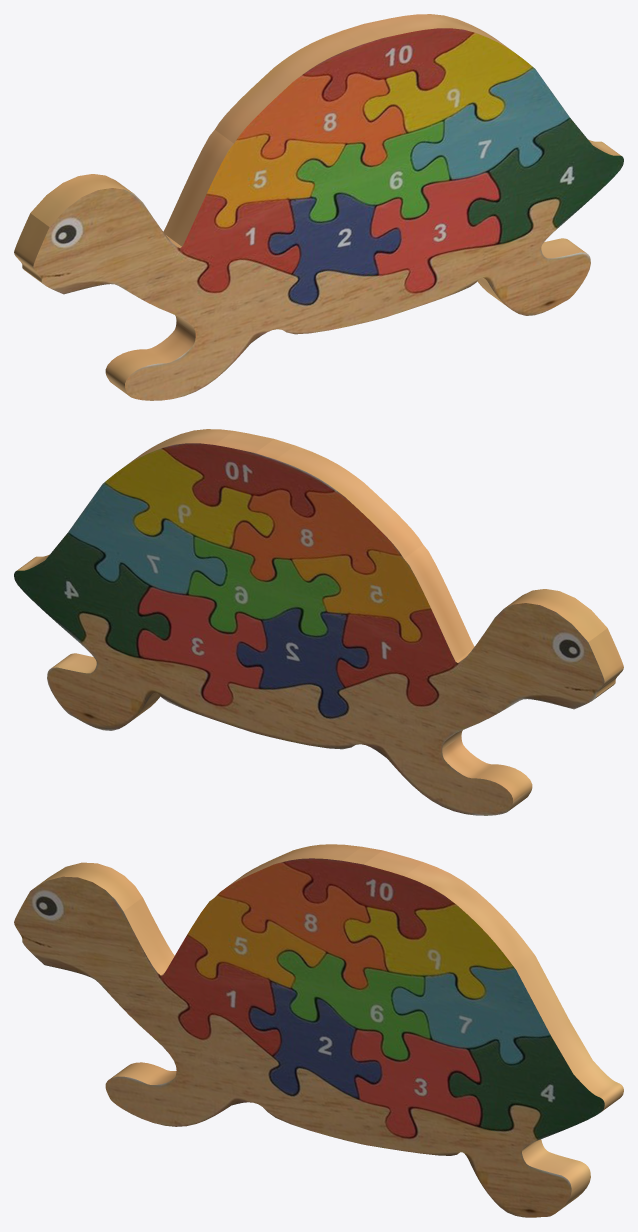
File: Turtle.fbx
3 views of the same model, one above another, from view 1: azimuth 30°, elevation 25°; view 2: azimuth 150°, elevation 25°; view 3: azimuth 330°, elevation 25° (orthographic).
Parts seen in each view (by area): view 1: Turtle; view 2: Turtle; view 3: Turtle.
Part boxes in pixels (box(x1,y1,x2,y2)): Turtle: box(14, 14, 623, 400); Turtle: box(14, 429, 623, 815); Turtle: box(14, 844, 623, 1217).
Bounding box in the file's own units: 6.96 × 3.54 × 0.3937.
Materials: 1 (1 with a texture image).
